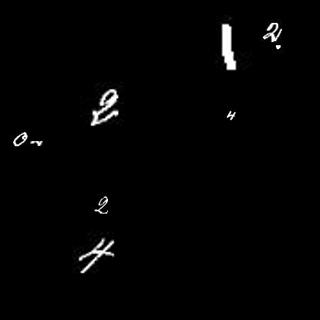dot: (275, 41, 283, 52)
four: (79, 236, 116, 271), (224, 106, 241, 123)
one: (220, 22, 238, 75)
two: (88, 90, 124, 125), (262, 23, 284, 44), (94, 195, 115, 217)
zero: (12, 128, 29, 149)
